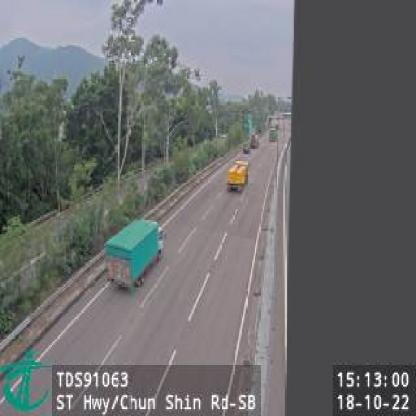Truck: (105, 219, 167, 292), (226, 162, 248, 193)
